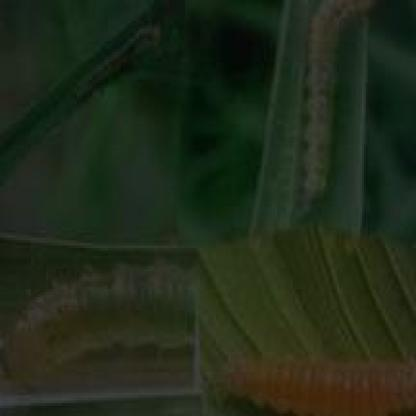leaf-folder: (4, 256, 200, 396), (284, 3, 365, 209), (223, 336, 416, 416), (83, 16, 166, 98)
